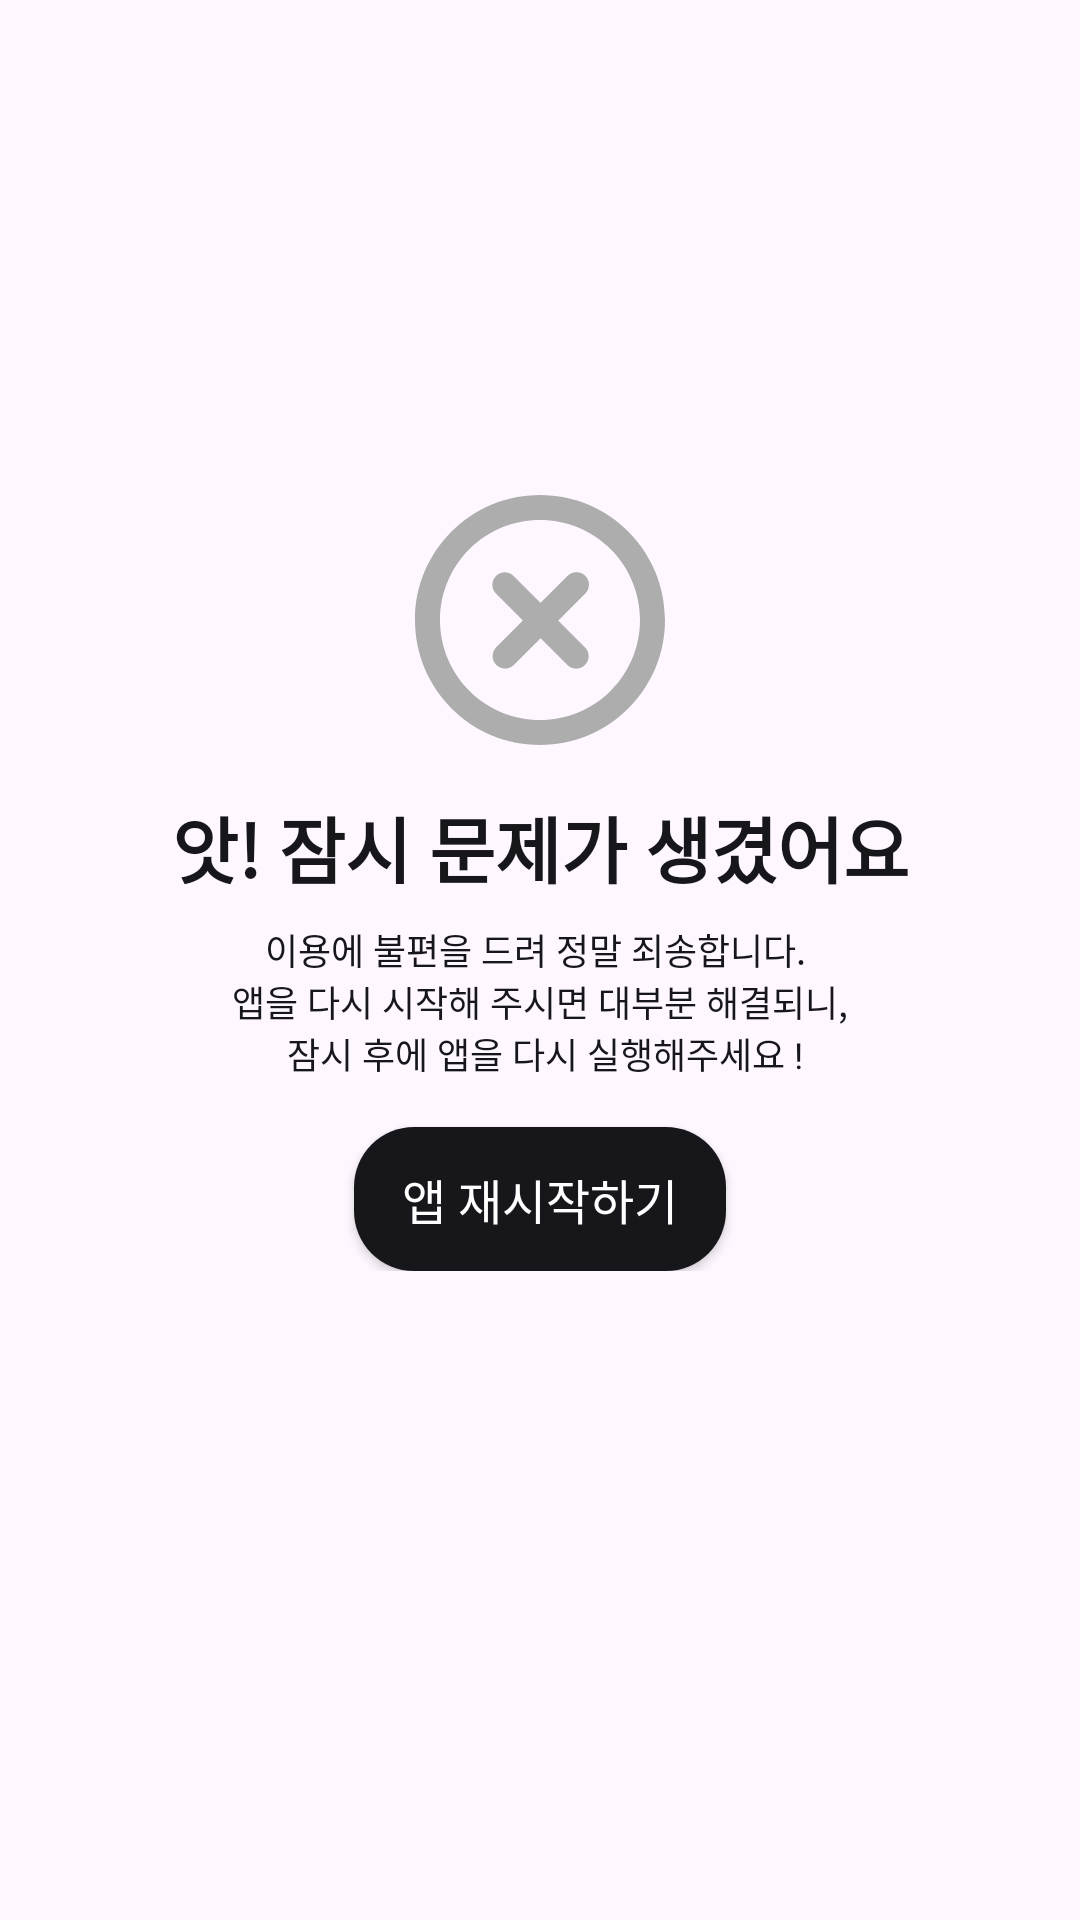

Where icons sit on this 1080×1920 app screen, as (x1, y1, x2, y2):
uncaught error: (415, 495, 665, 745)
